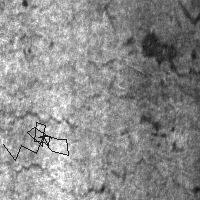crazing: (1, 109, 131, 193), (3, 122, 68, 160), (86, 60, 142, 100), (140, 29, 178, 65)
